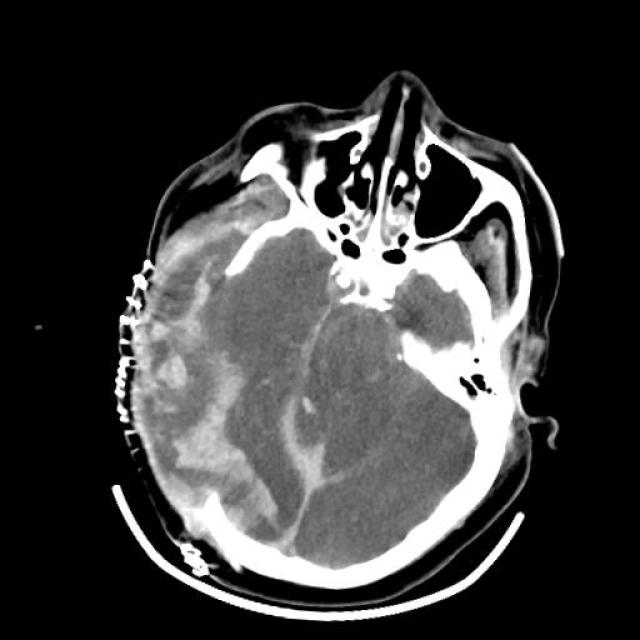Subdural: (274, 430, 376, 574)
